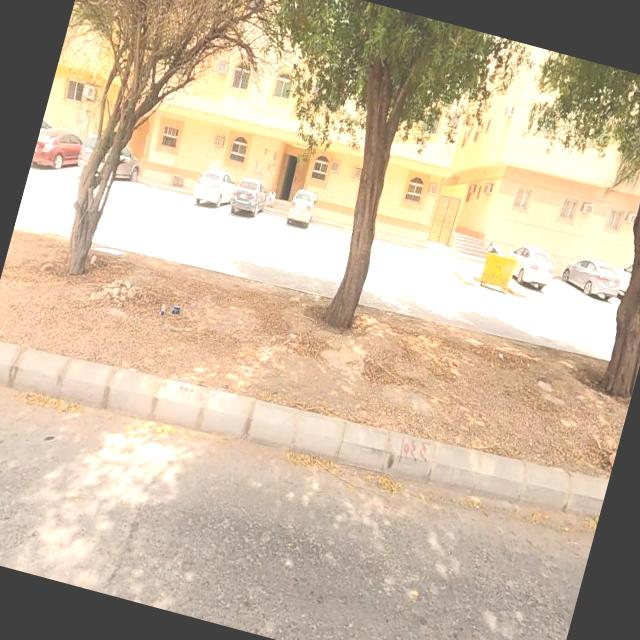debris: (132, 269, 212, 344)
